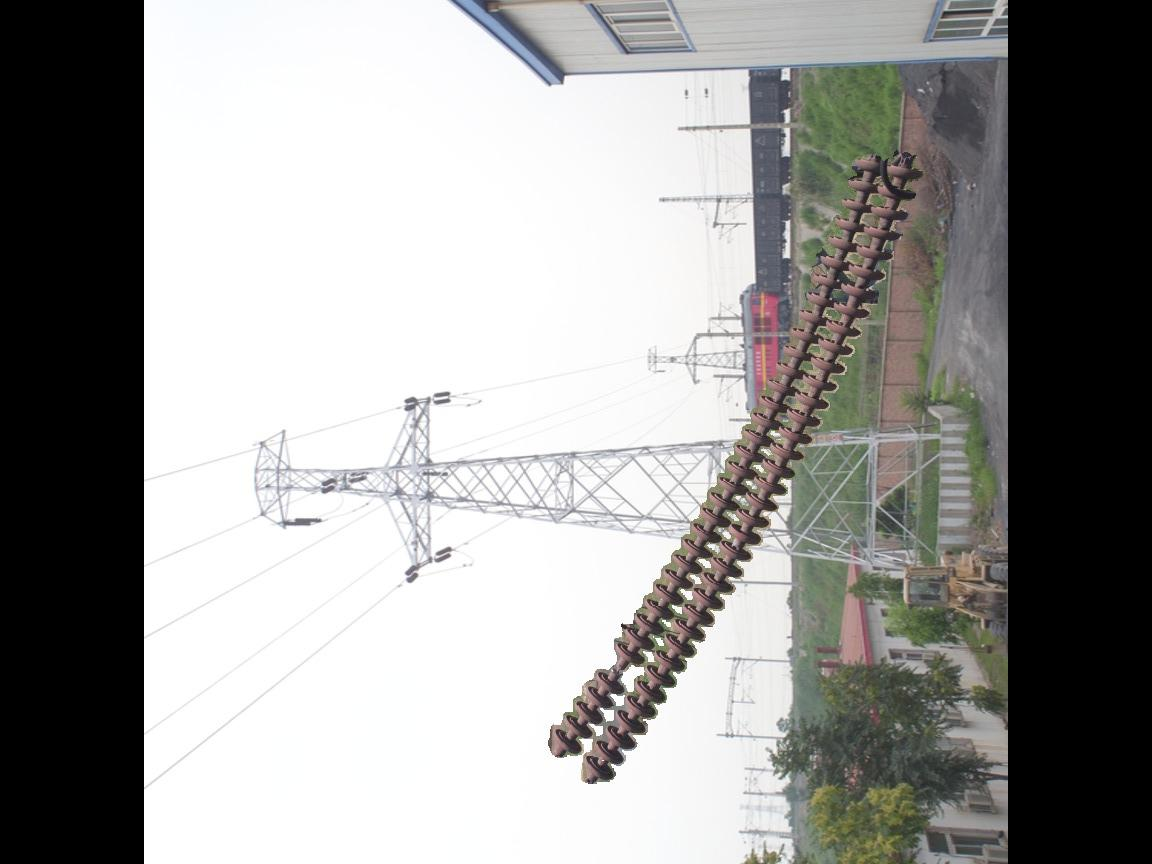insulator: (545, 150, 923, 789)
insulator_stringdrop: (590, 638, 648, 698)
